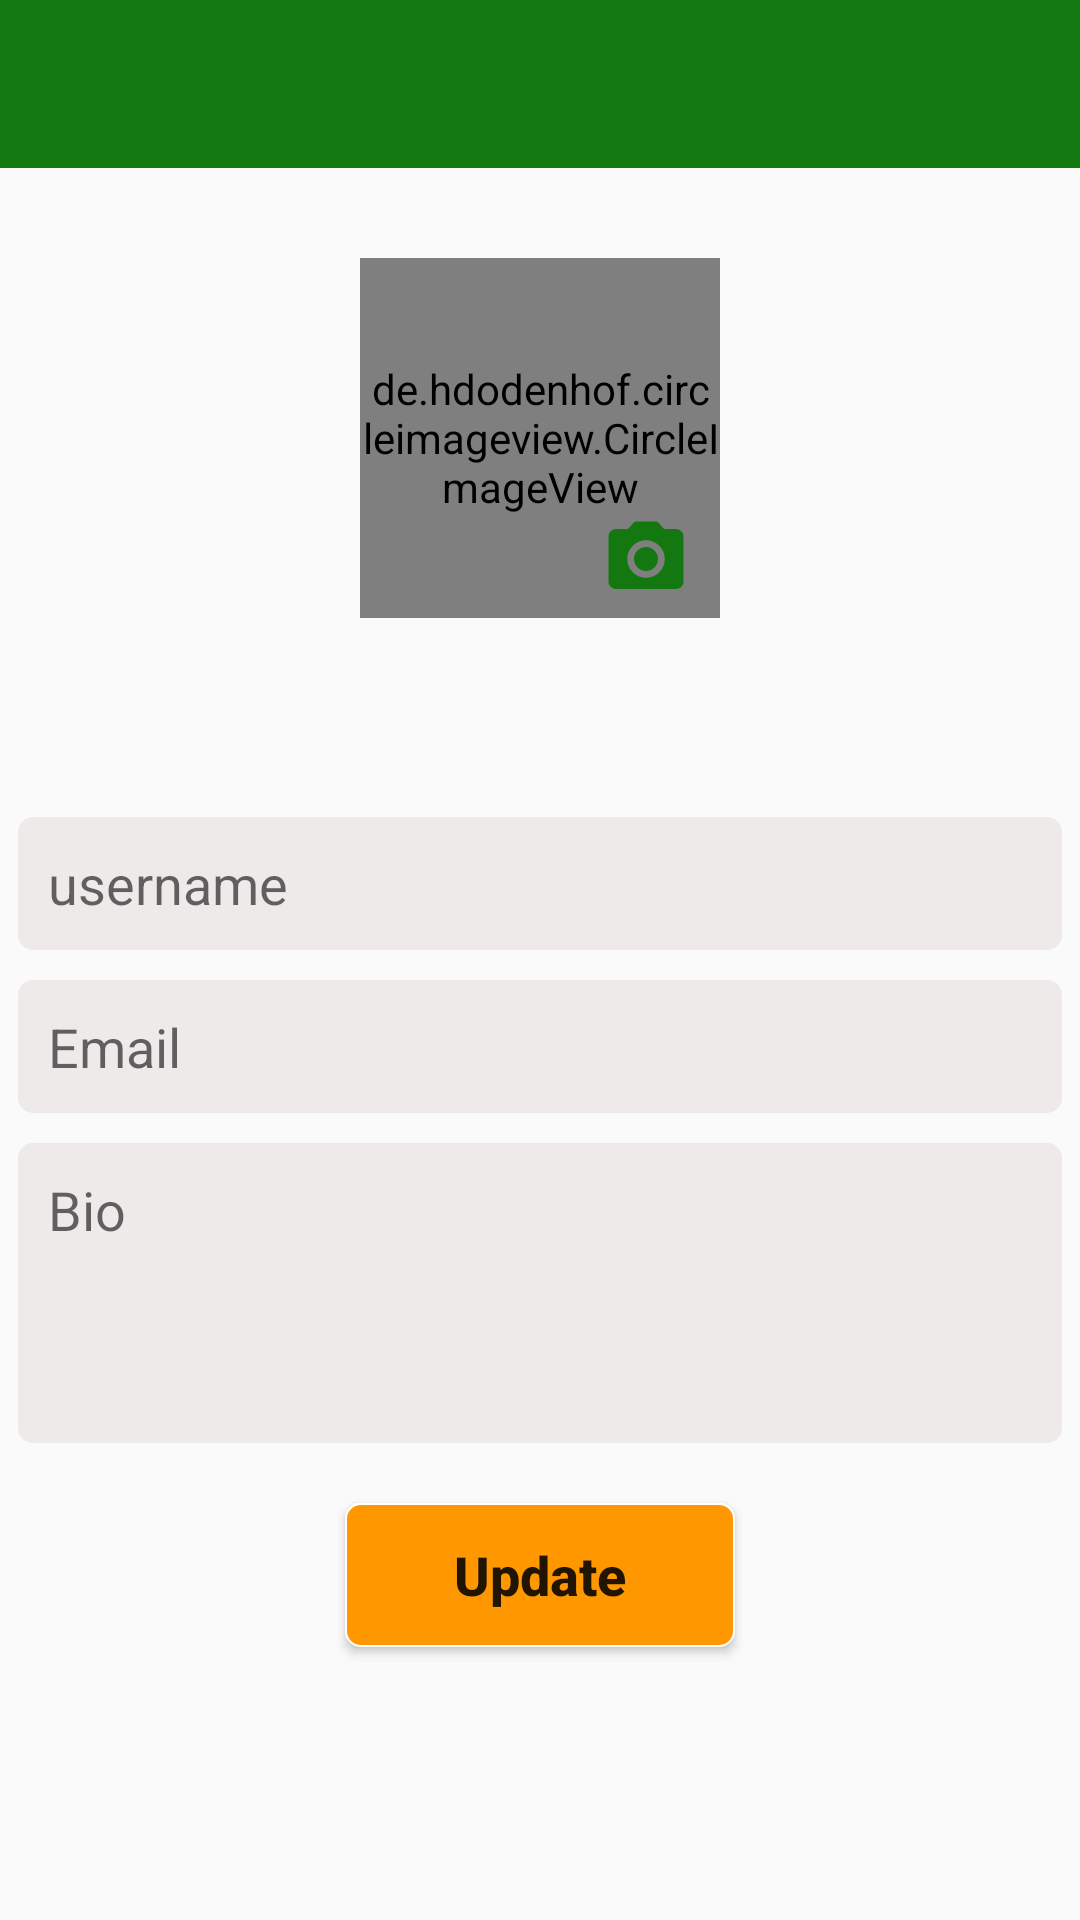

Named icons in this screenshot (1080 × 1920) and their bounding boxes, (x1, y1, x2, y2):
camera: (608, 521, 684, 589)
